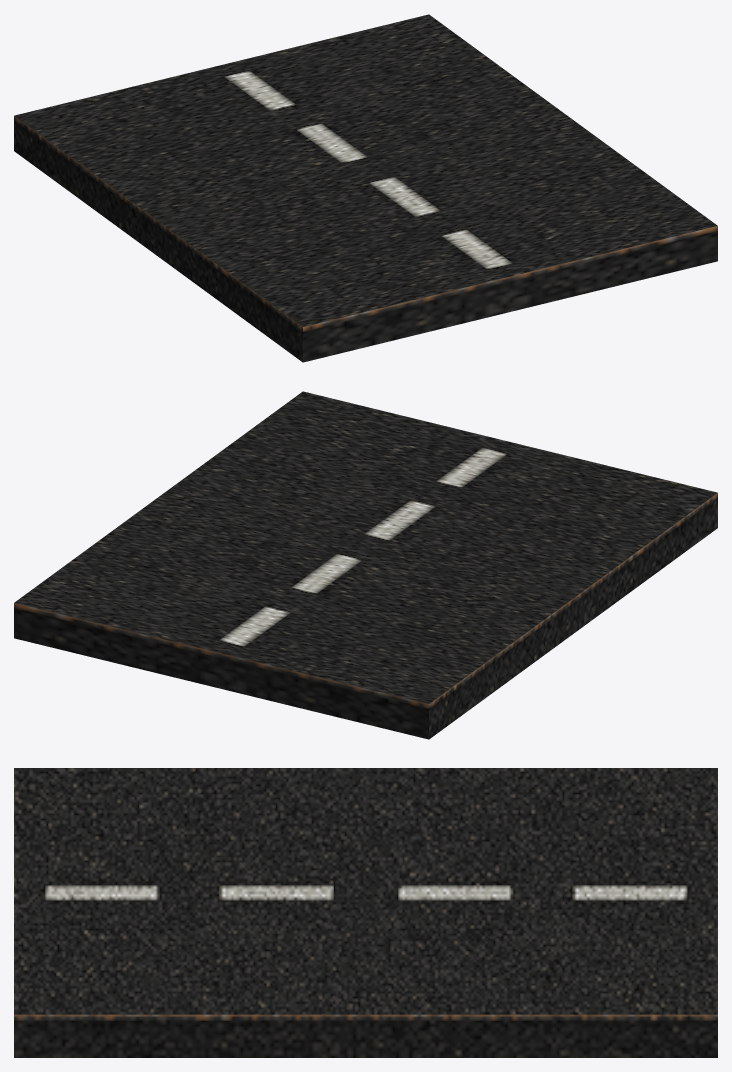
The model's file is roadLines.fbx.
3 renders of one model, top to bottom at view 1: azimuth 30°, elevation 25°; view 2: azimuth 150°, elevation 25°; view 3: azimuth 270°, elevation 25°, orthographic. The views are drawn at different scales.
Parts seen in each view (by area): view 1: Cube.490; view 2: Cube.490; view 3: Cube.490.
Boxes of the visible parts, x1=… form: Cube.490: x1=14, y1=14, x2=717, y2=362; Cube.490: x1=14, y1=391, x2=717, y2=739; Cube.490: x1=14, y1=768, x2=717, y2=1057.
Size of the model in its own units: 449 by 36.64 by 541.
